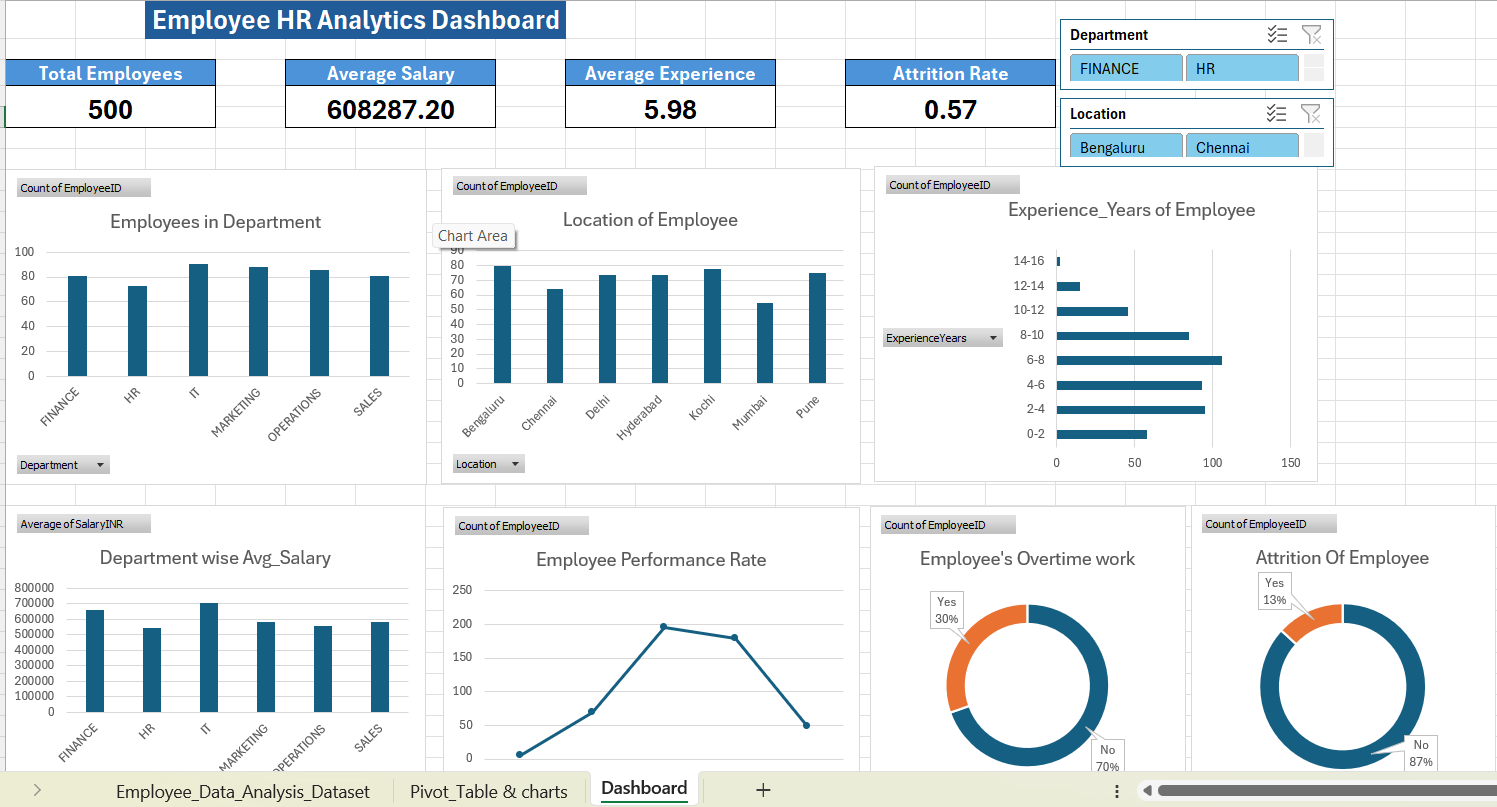

What the dashboard file says about the page in this screenshot:
{"tool":"powerbi","page":{"name":"Page 1","canvas":[1920,1080],"ordinal":0},"visuals":[{"type":"card","fields":{"Values":["ameasure.Total Employees"]},"box":[128.5,124.9,333,124.9],"z":0},{"type":"card","fields":{"Values":["ameasure.Attrition Rate"]},"box":[1460.4,124.9,333,124.9],"z":1},{"type":"card","fields":{"Values":["ameasure.Average Experience"]},"box":[1006.2,124.9,333,124.9],"z":2},{"type":"card","fields":{"Values":["ameasure.Average Salary"]},"box":[561,124.9,333,124.9],"z":3},{"type":"clusteredBarChart","title":"Employee Distribution by Department","fields":{"Category":["Employee.Department"],"Y":["CountNonNull(Employee.EmployeeID)"]},"box":[41.6,684.1,398.1,351.1],"z":4},{"type":"clusteredColumnChart","title":"\tAverage Salary by Department","fields":{"Category":["Employee.Department"],"Y":["Avg(Employee.SalaryINR)"]},"box":[41.6,264.2,398.1,351.1],"z":5},{"type":"clusteredBarChart","title":"\tEmployee Distribution by Location","fields":{"Category":["Employee.Location"],"Y":["CountNonNull(Employee.EmployeeID)"]},"box":[461.5,684.1,398.1,351.1],"z":6},{"type":"clusteredColumnChart","title":"Employee Distribution by Experience","fields":{"Category":["Employee.Experience Group"],"Y":["CountNonNull(Employee.EmployeeID)"]},"box":[461.5,264.2,398.1,351.1],"z":7},{"type":"clusteredColumnChart","title":"\tEmployee Performance Rating Distribution","fields":{"Category":["Employee.PerformanceRating"],"Y":["CountNonNull(Employee.EmployeeID)"]},"box":[877.7,264.2,398.1,351.1],"z":8},{"type":"donutChart","title":"Employee Attrition Analysis","fields":{"Category":["Employee.Attrition"],"Y":["CountNonNull(Employee.EmployeeID)"]},"box":[1308.4,684.1,398.1,351.1],"z":9},{"type":"donutChart","title":"Employee Overtime Analysis","fields":{"Category":["Employee.Overtime"],"Y":["CountNonNull(Employee.EmployeeID)"]},"box":[877.7,684.1,398.1,351.1],"z":10},{"type":"listSlicer","fields":{"Values":["Employee.Department"]},"box":[1719.2,262.4,181,313.1],"z":11},{"type":"listSlicer","fields":{"Values":["Employee.Gender"]},"box":[1719.2,684.1,181,304],"z":12},{"type":"listSlicer","fields":{"Values":["Employee.JobRole"]},"box":[1507.4,264.2,181,313.1],"z":13},{"type":"listSlicer","fields":{"Values":["Employee.Location"]},"box":[1308.4,262.4,181,313.1],"z":14},{"type":"textbox","box":[371,23.5,1270.4,86.9],"z":15}]}

Visuals, with their boxes on the page's 1920x1080 design canvas (x1, y1, x2, y2). These are canvas units, not pixel positions in the 1497x807 screenshot, which may show the page scaled, cropped or inside an application window:
card - ameasure.Total Employees: x1=128 y1=125 x2=462 y2=250
card - ameasure.Attrition Rate: x1=1460 y1=125 x2=1793 y2=250
card - ameasure.Average Experience: x1=1006 y1=125 x2=1339 y2=250
card - ameasure.Average Salary: x1=561 y1=125 x2=894 y2=250
"Employee Distribution by Department" clusteredBarChart: x1=42 y1=684 x2=440 y2=1035
"	Average Salary by Department" clusteredColumnChart: x1=42 y1=264 x2=440 y2=615
"	Employee Distribution by Location" clusteredBarChart: x1=462 y1=684 x2=860 y2=1035
"Employee Distribution by Experience" clusteredColumnChart: x1=462 y1=264 x2=860 y2=615
"	Employee Performance Rating Distribution" clusteredColumnChart: x1=878 y1=264 x2=1276 y2=615
"Employee Attrition Analysis" donutChart: x1=1308 y1=684 x2=1706 y2=1035
"Employee Overtime Analysis" donutChart: x1=878 y1=684 x2=1276 y2=1035
listSlicer - Employee.Department: x1=1719 y1=262 x2=1900 y2=576
listSlicer - Employee.Gender: x1=1719 y1=684 x2=1900 y2=988
listSlicer - Employee.JobRole: x1=1507 y1=264 x2=1688 y2=577
listSlicer - Employee.Location: x1=1308 y1=262 x2=1489 y2=576
textbox: x1=371 y1=24 x2=1641 y2=110
